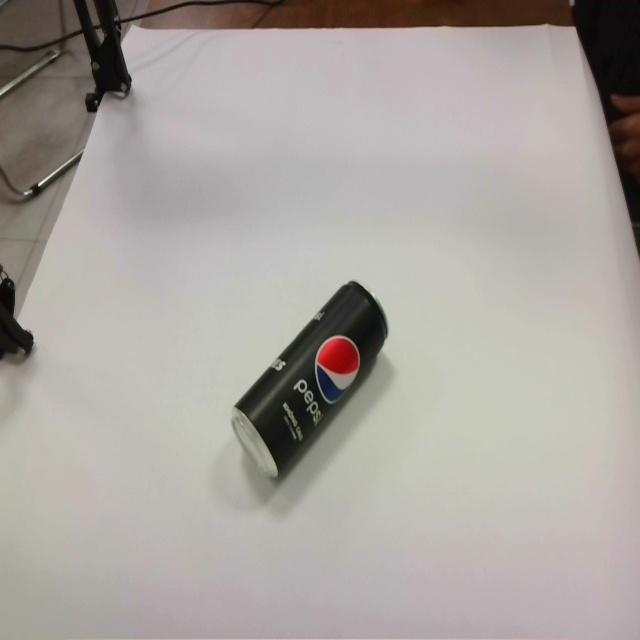debris: (230, 279, 389, 482)
